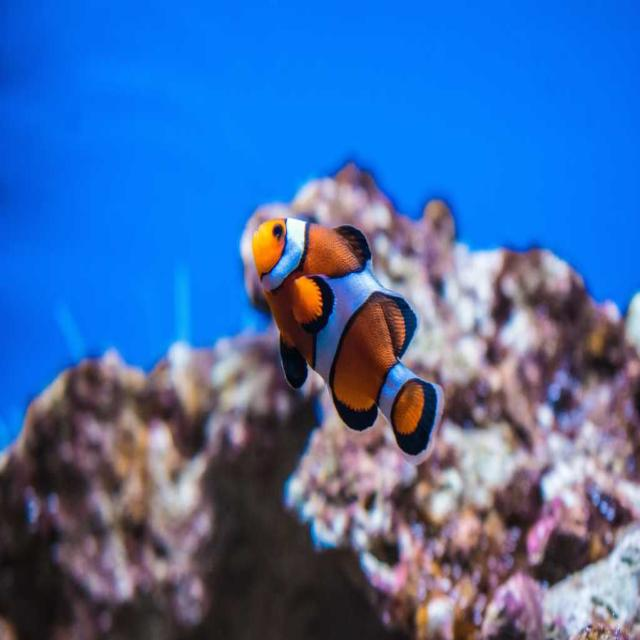ClownFish: (246, 211, 445, 465)
